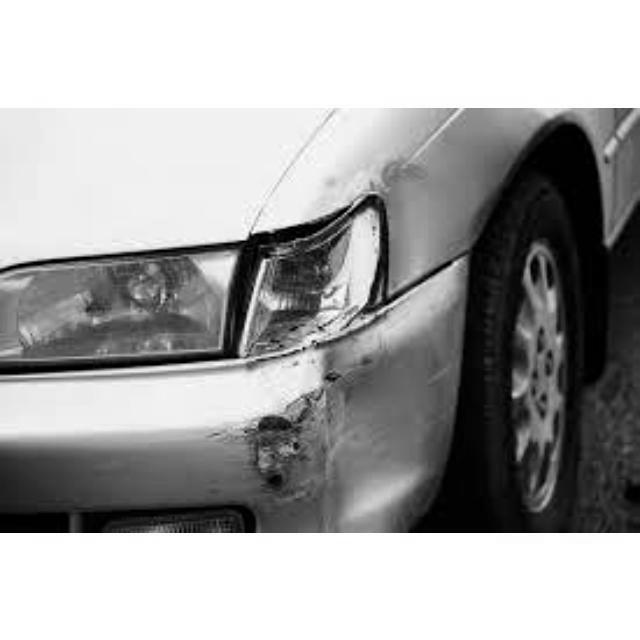Headlight-damage: (217, 175, 421, 363)
front-bumper-dent: (12, 362, 472, 531)
